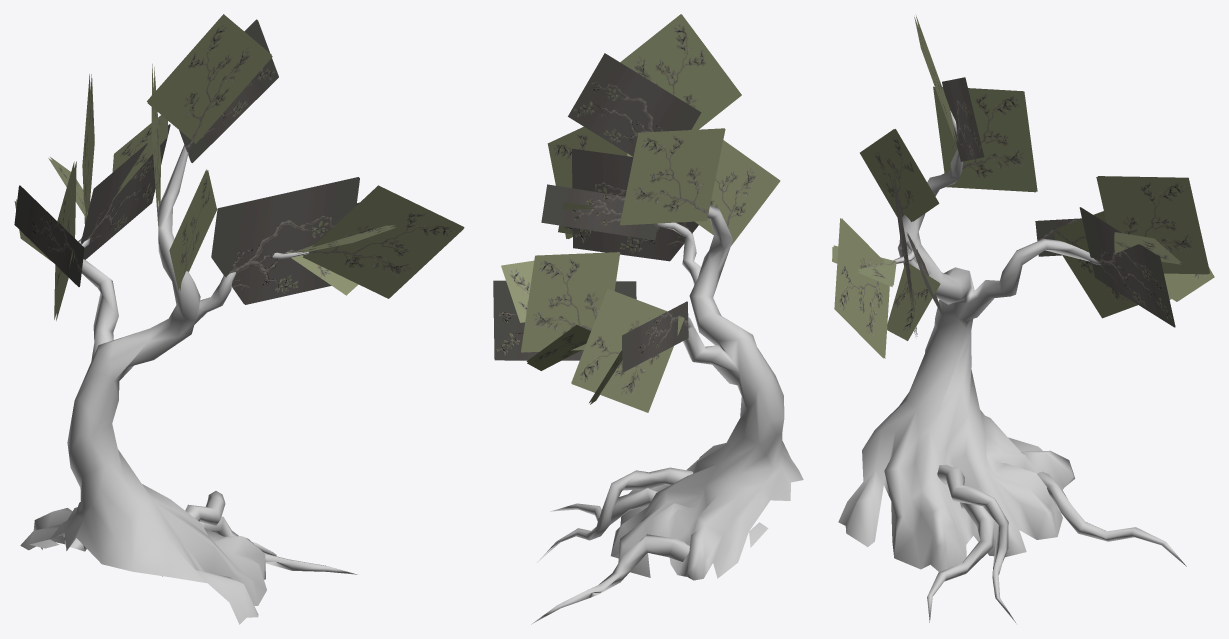
The model's file is Swamp_Tree_Bent_A_ExtraRoots.fbx.
The picture shows the model from 3 angles, left to right: view 1: azimuth 30°, elevation 25°; view 2: azimuth 150°, elevation 25°; view 3: azimuth 270°, elevation 25°; orthographic projection. The views are drawn at different scales.
Parts seen in each view (by area): view 1: Swamp_Tree_Bent_A_ExtraRoots; view 2: Swamp_Tree_Bent_A_ExtraRoots; view 3: Swamp_Tree_Bent_A_ExtraRoots.
Part boxes in pixels (left/top/right/bottom): Swamp_Tree_Bent_A_ExtraRoots: left=14, top=14, right=464, bottom=624; Swamp_Tree_Bent_A_ExtraRoots: left=493, top=14, right=803, bottom=624; Swamp_Tree_Bent_A_ExtraRoots: left=832, top=15, right=1214, bottom=623.
Bounding box in the file's own units: 178 × 311 × 192.
